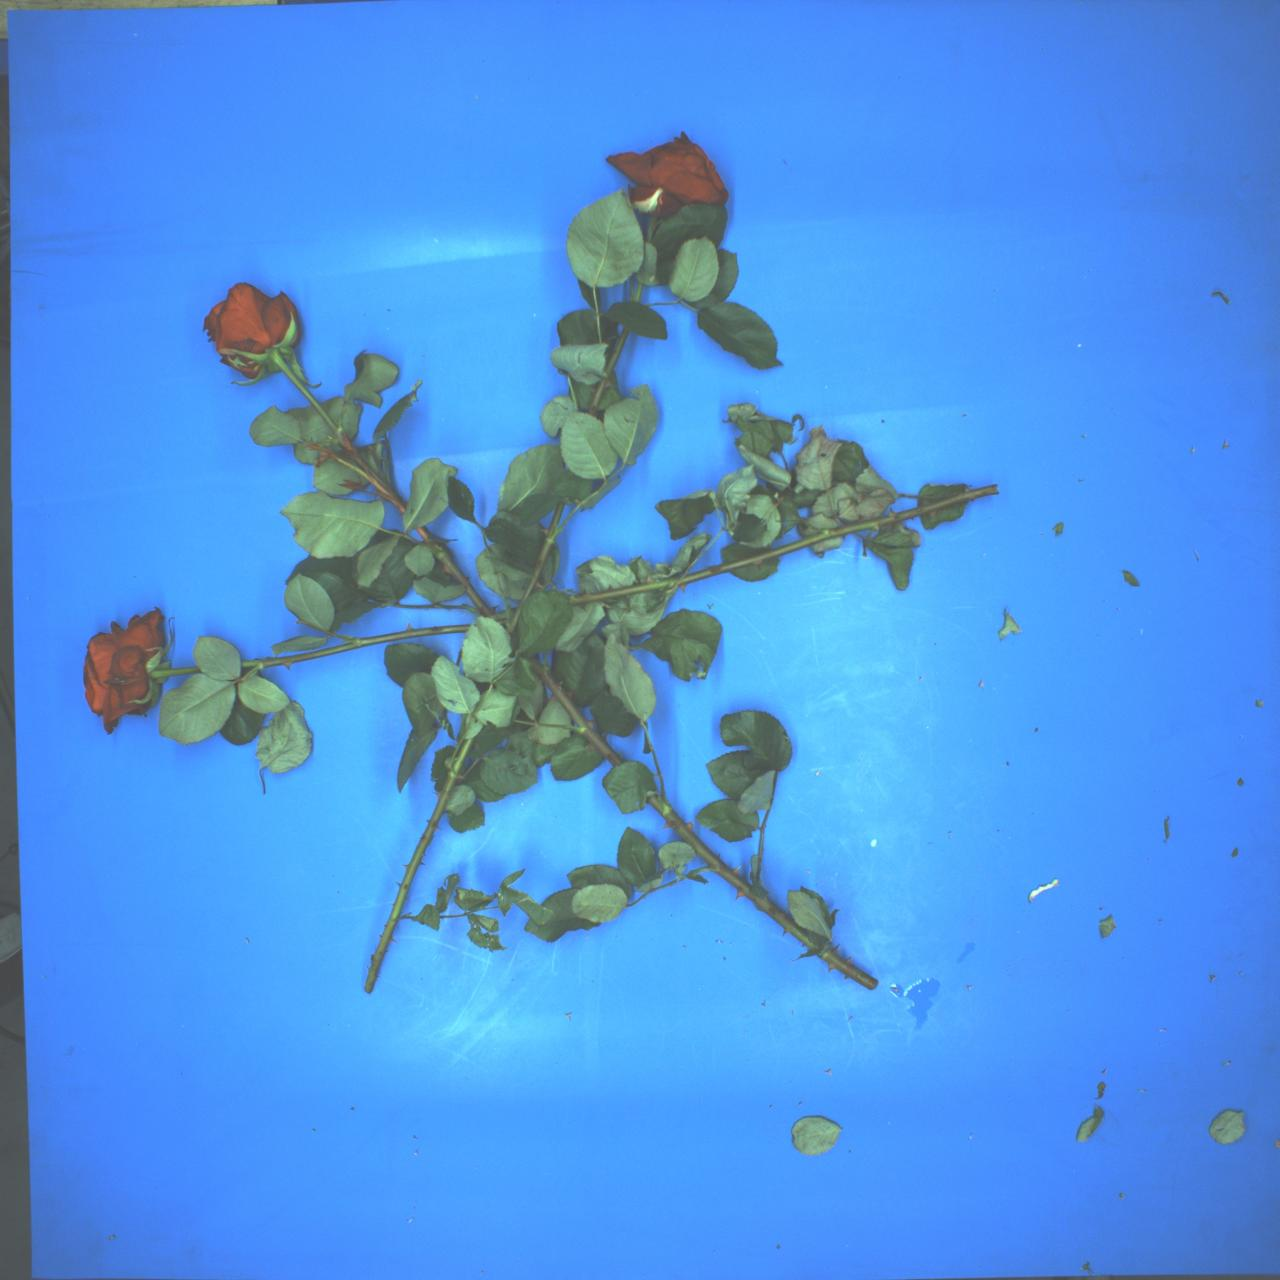Stem: (573, 476, 999, 615), (358, 729, 477, 994), (642, 791, 821, 958), (240, 619, 471, 672), (526, 654, 624, 770), (502, 501, 570, 638), (267, 348, 348, 444), (586, 327, 629, 416), (438, 553, 495, 620), (353, 454, 407, 509), (822, 948, 879, 992), (150, 665, 202, 679), (645, 216, 658, 243), (415, 523, 431, 540), (633, 282, 644, 302)
flower: (57, 597, 202, 735), (606, 115, 733, 244), (189, 264, 315, 388)
